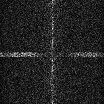wifi: (1, 52, 104, 57)
